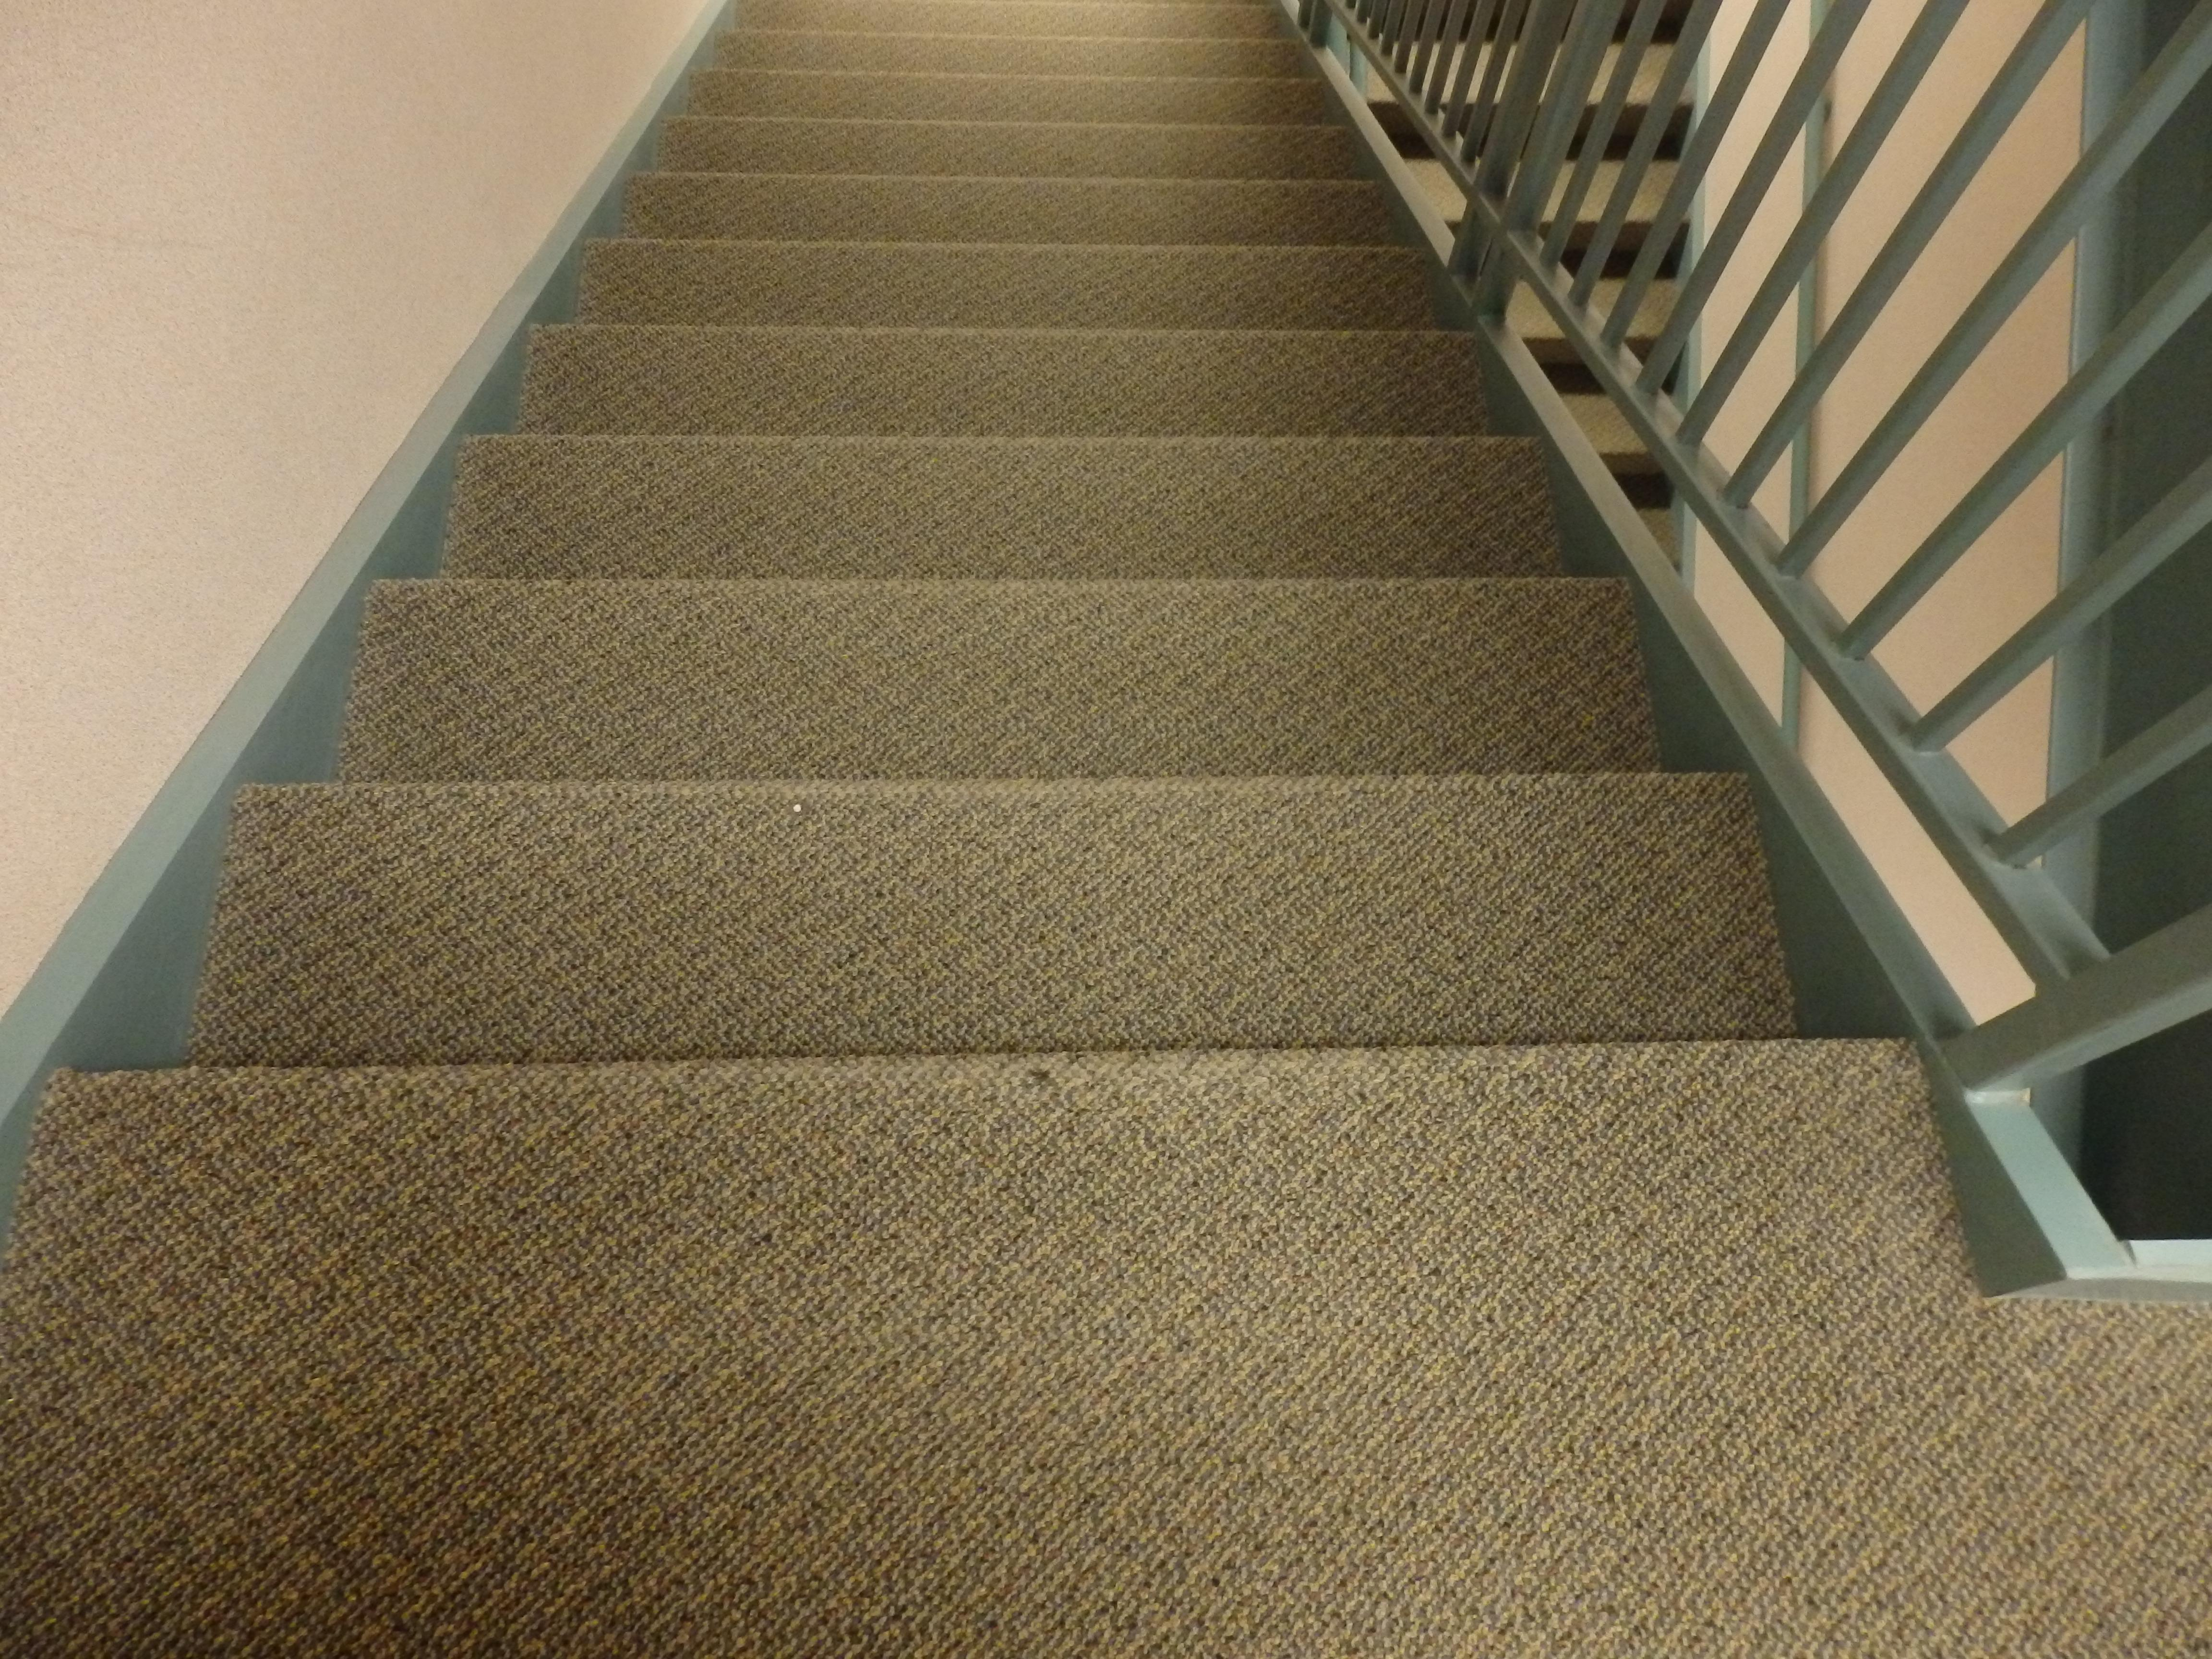stairs_down: (206, 0, 1867, 1412)
